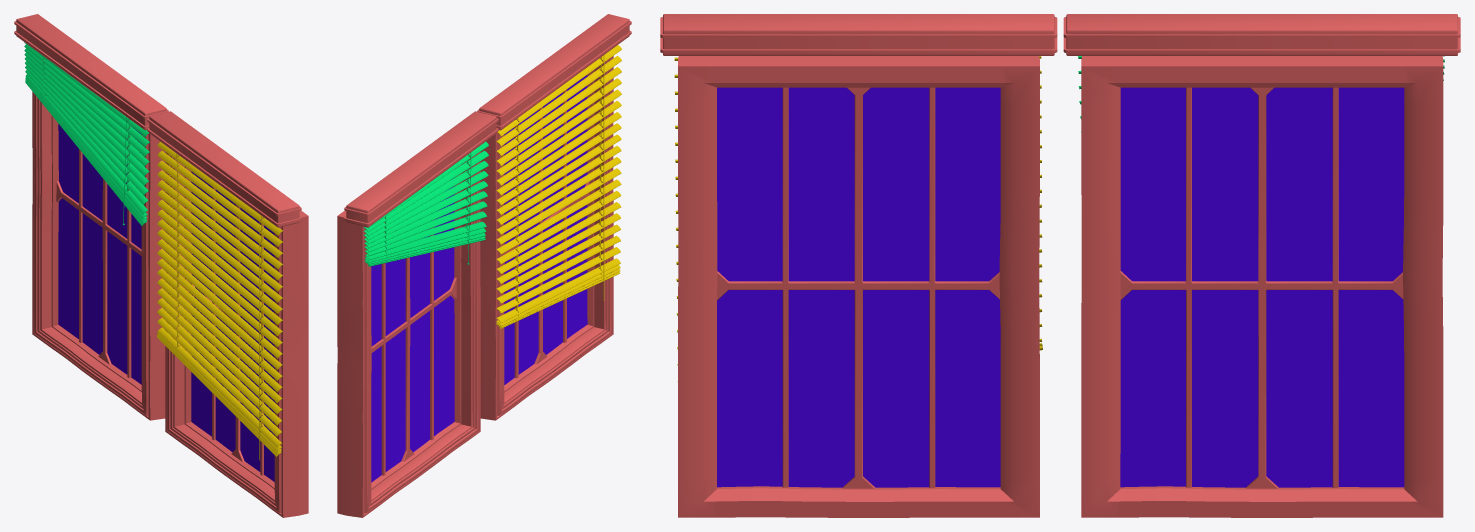
Rendered from Win3dModel.fbx.
The picture shows the model from 3 angles, left to right: view 1: azimuth 30°, elevation 25°; view 2: azimuth 150°, elevation 25°; view 3: azimuth 270°, elevation 25°; orthographic projection. The views are drawn at different scales.
Parts seen in each view (by area): view 1: Blinds_, Wood, Wood_, Glass, Blinds, Glass_; view 2: Wood, Blinds_, Wood_, Glass, Blinds, Glass_; view 3: Glass, Glass_, Wood_, Wood.
Part boxes in pixels (x1,y1,x2,y2): Blinds_: (157,142,282,460); Wood: (14,14,168,420); Wood_: (147,111,308,517); Glass: (58,124,141,384); Blinds: (24,42,149,225); Glass_: (191,171,274,481); Wood: (337,111,498,517); Blinds_: (496,45,621,328); Wood_: (477,14,631,420); Glass: (371,178,454,482); Blinds: (363,141,488,266); Glass_: (504,75,587,384); Glass: (1120,87,1404,487); Glass_: (717,87,1000,487); Wood_: (660,14,1057,517); Wood: (1063,14,1460,517).
Size of the model in its own units: 44.75 by 360 by 546.
